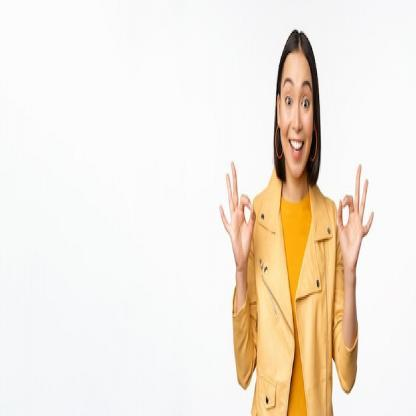ok: (332, 155, 376, 268), (216, 157, 258, 272)
